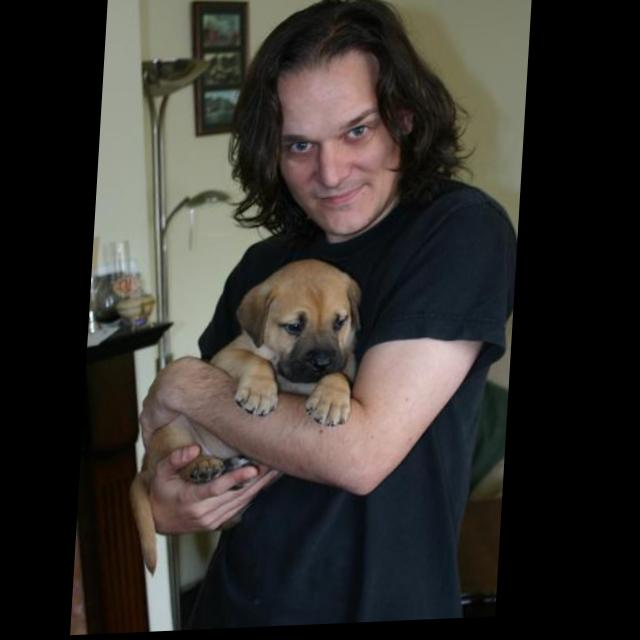bullmastiff: (130, 260, 370, 579)
face: (272, 52, 409, 242)
person: (133, 1, 533, 635)
